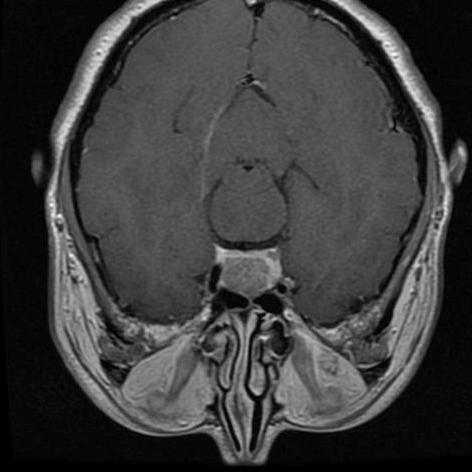Tumour-Pituitary: (204, 244, 302, 301)
